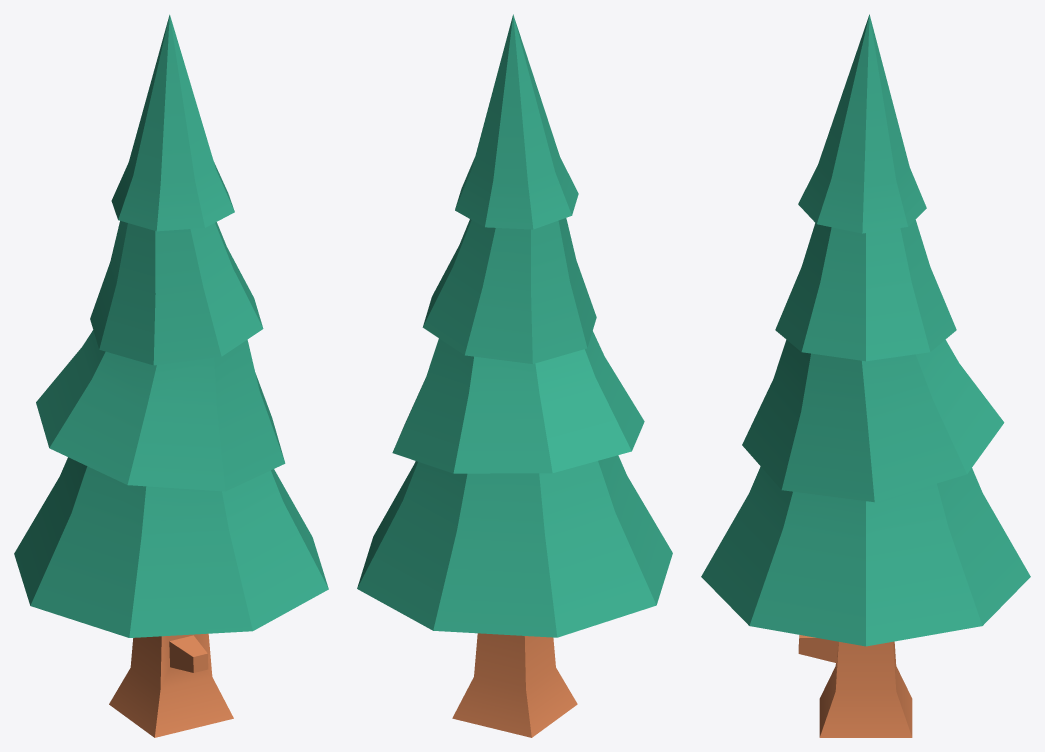
The model's file is treeCrooked.obj.
The picture shows the model from 3 angles, left to right: view 1: azimuth 30°, elevation 25°; view 2: azimuth 150°, elevation 25°; view 3: azimuth 270°, elevation 25°; orthographic projection.
Parts seen in each view (by area): view 1: treeCrooked; view 2: treeCrooked; view 3: treeCrooked.
Boxes of the visible parts, x1,y1,x2,y2 form: treeCrooked: (14,14,328,737); treeCrooked: (357,14,672,737); treeCrooked: (701,14,1030,737).
Size of the model in its own units: 1.02 by 2.41 by 1.02.
